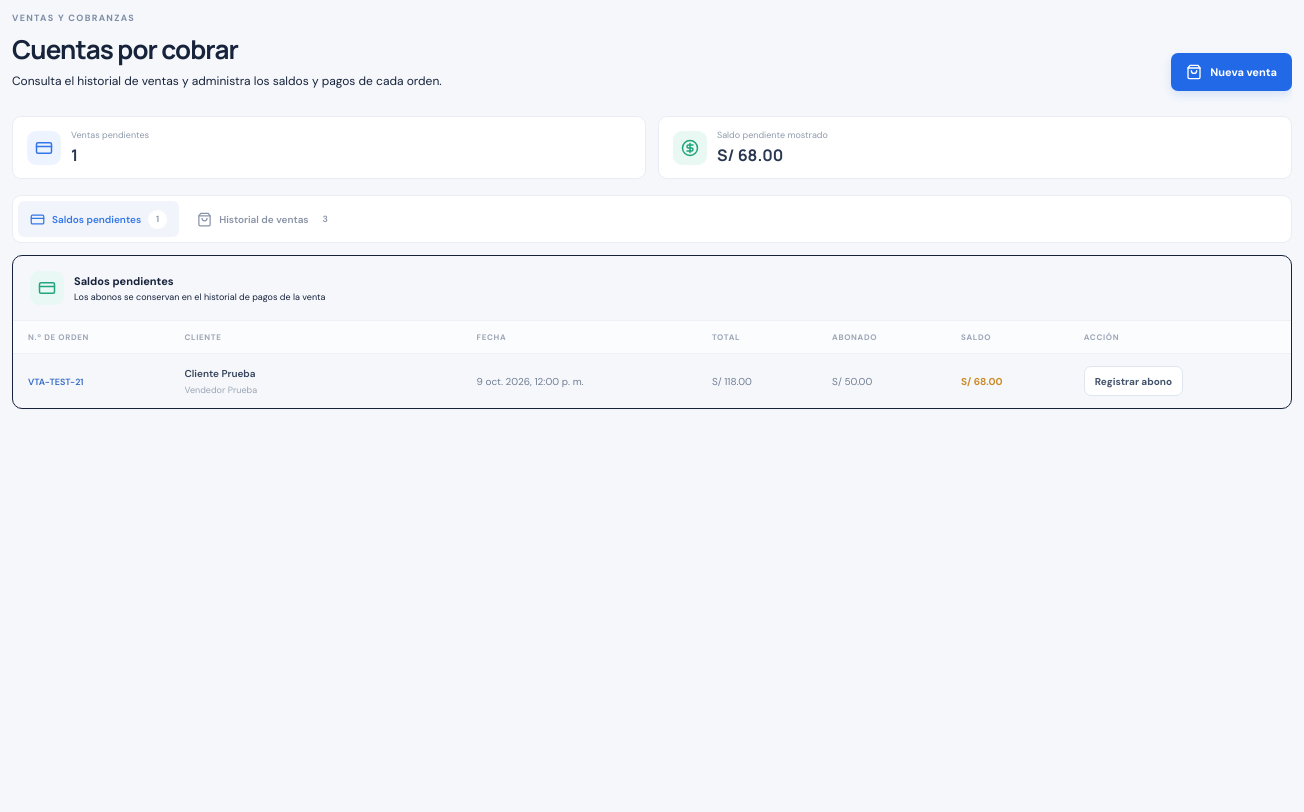
it: AccountsReceivablePage › muestra el historial con estado de pago calculado desde los abonos
Click the tab "Historial de ventas 3".
click(266, 219)  # box 185,201 -> 347,237
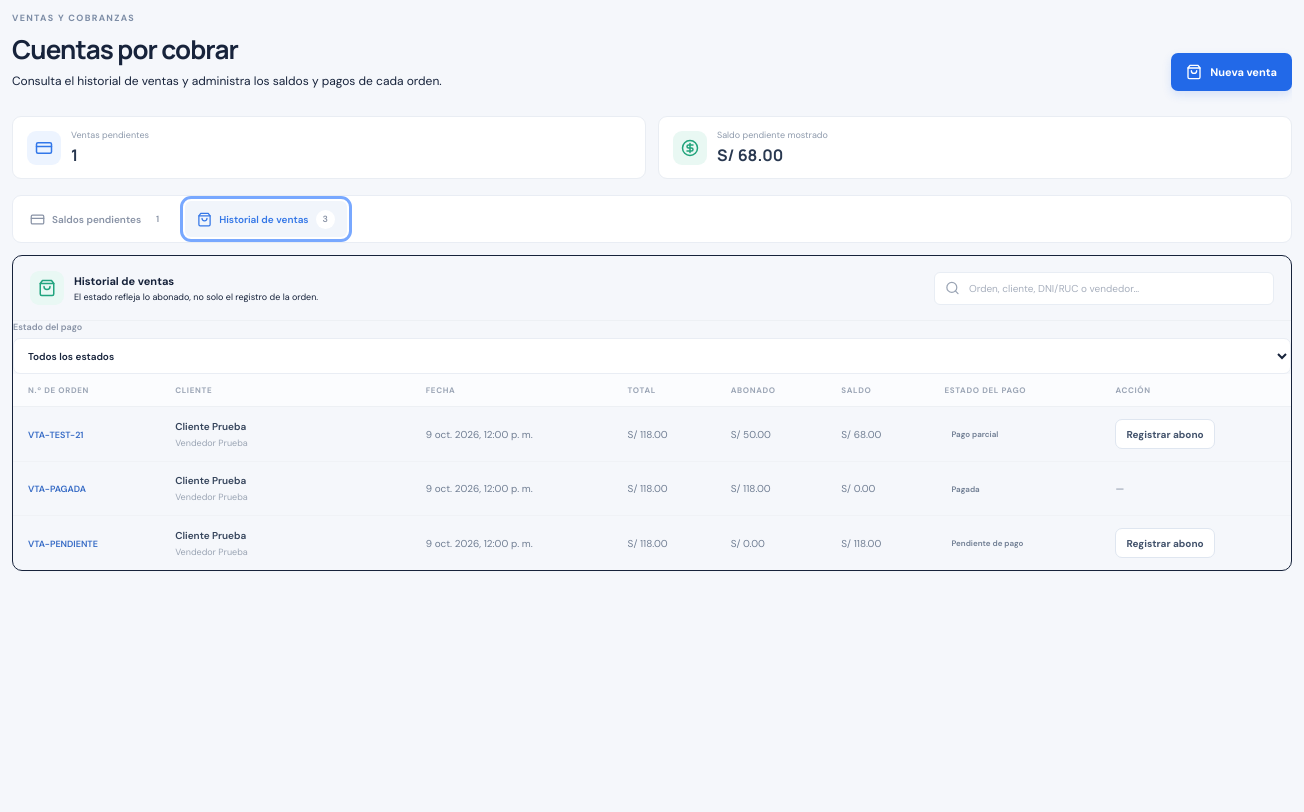
Now the text "Pago parcial" is shown 2 times
Now the text "VTA-PAGADA" is shown, box 28,483 -> 86,495
Now the text "Pagada" is shown 2 times
Select "Pago parcial" in the dropdown named "Filtrar por estado de pago" at (652,356), box 13,338 -> 1291,374
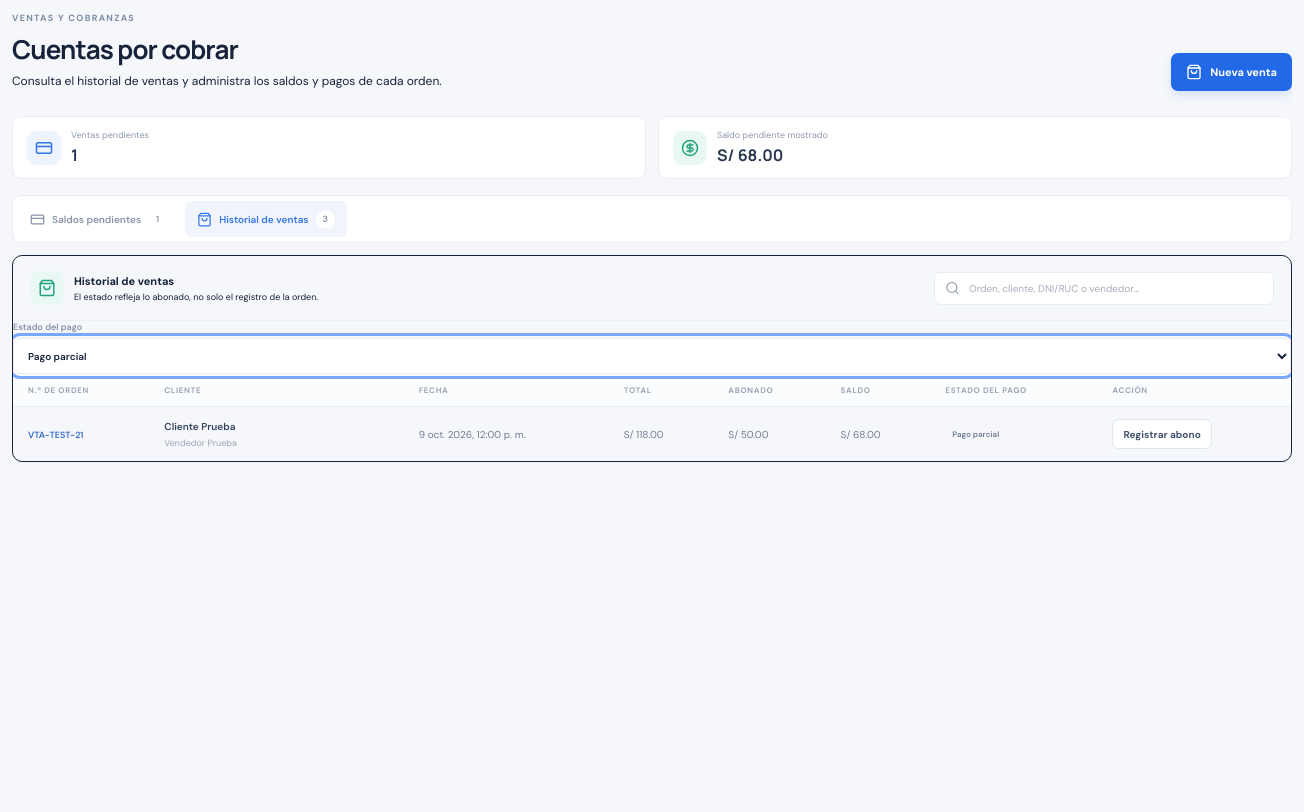
Expected: the text "VTA-TEST-21" is shown, 28,429 -> 84,441
Now the text "VTA-PAGADA" is gone
Now the text "VTA-PENDIENTE" is gone
